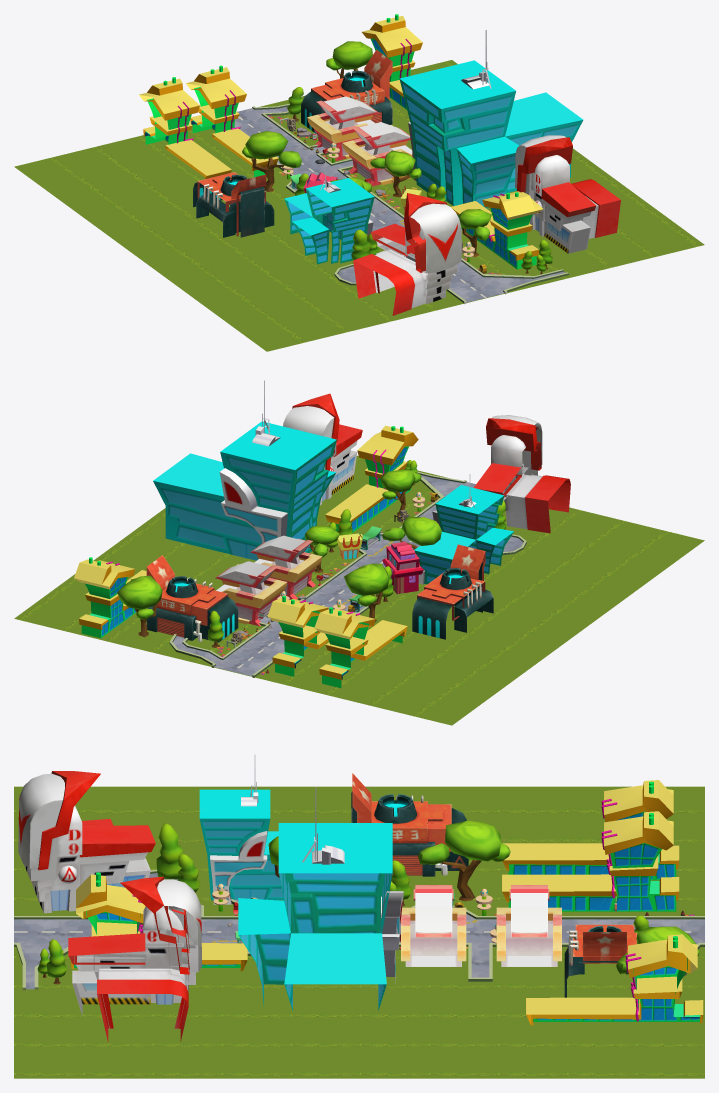
File: scene_city_02.FBX
3 views of the same model, one above another, from view 1: azimuth 30°, elevation 25°; view 2: azimuth 150°, elevation 25°; view 3: azimuth 270°, elevation 25° (orthographic). The views are drawn at different scales.
Visible parts, largest first — view 1: scene_city_02; view 2: scene_city_02; view 3: scene_city_02.
Boxes of the visible parts, box(x1,y1,x2,y2) form: scene_city_02: box(14, 14, 704, 351); scene_city_02: box(14, 380, 704, 725); scene_city_02: box(14, 754, 704, 1078).
Size of the model in its own units: 10000 by 3560 by 10000.
